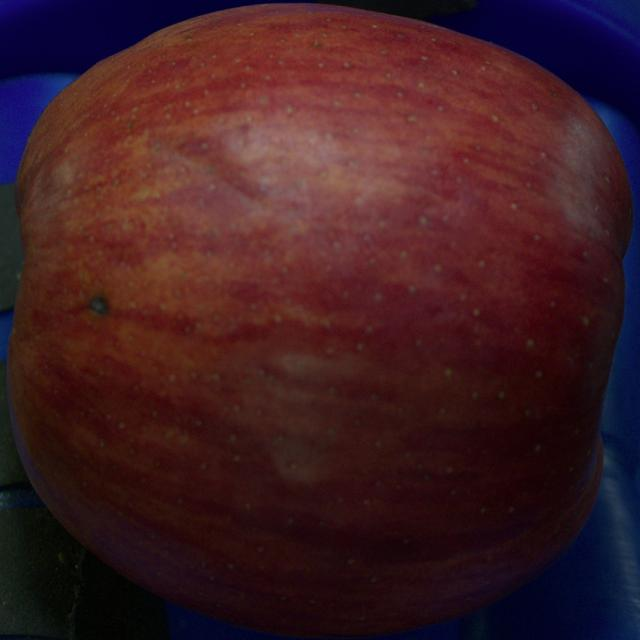apple: (7, 4, 632, 636)
bruise: (165, 162, 252, 227)
pest: (88, 296, 108, 315)
scratch: (168, 147, 261, 205)
